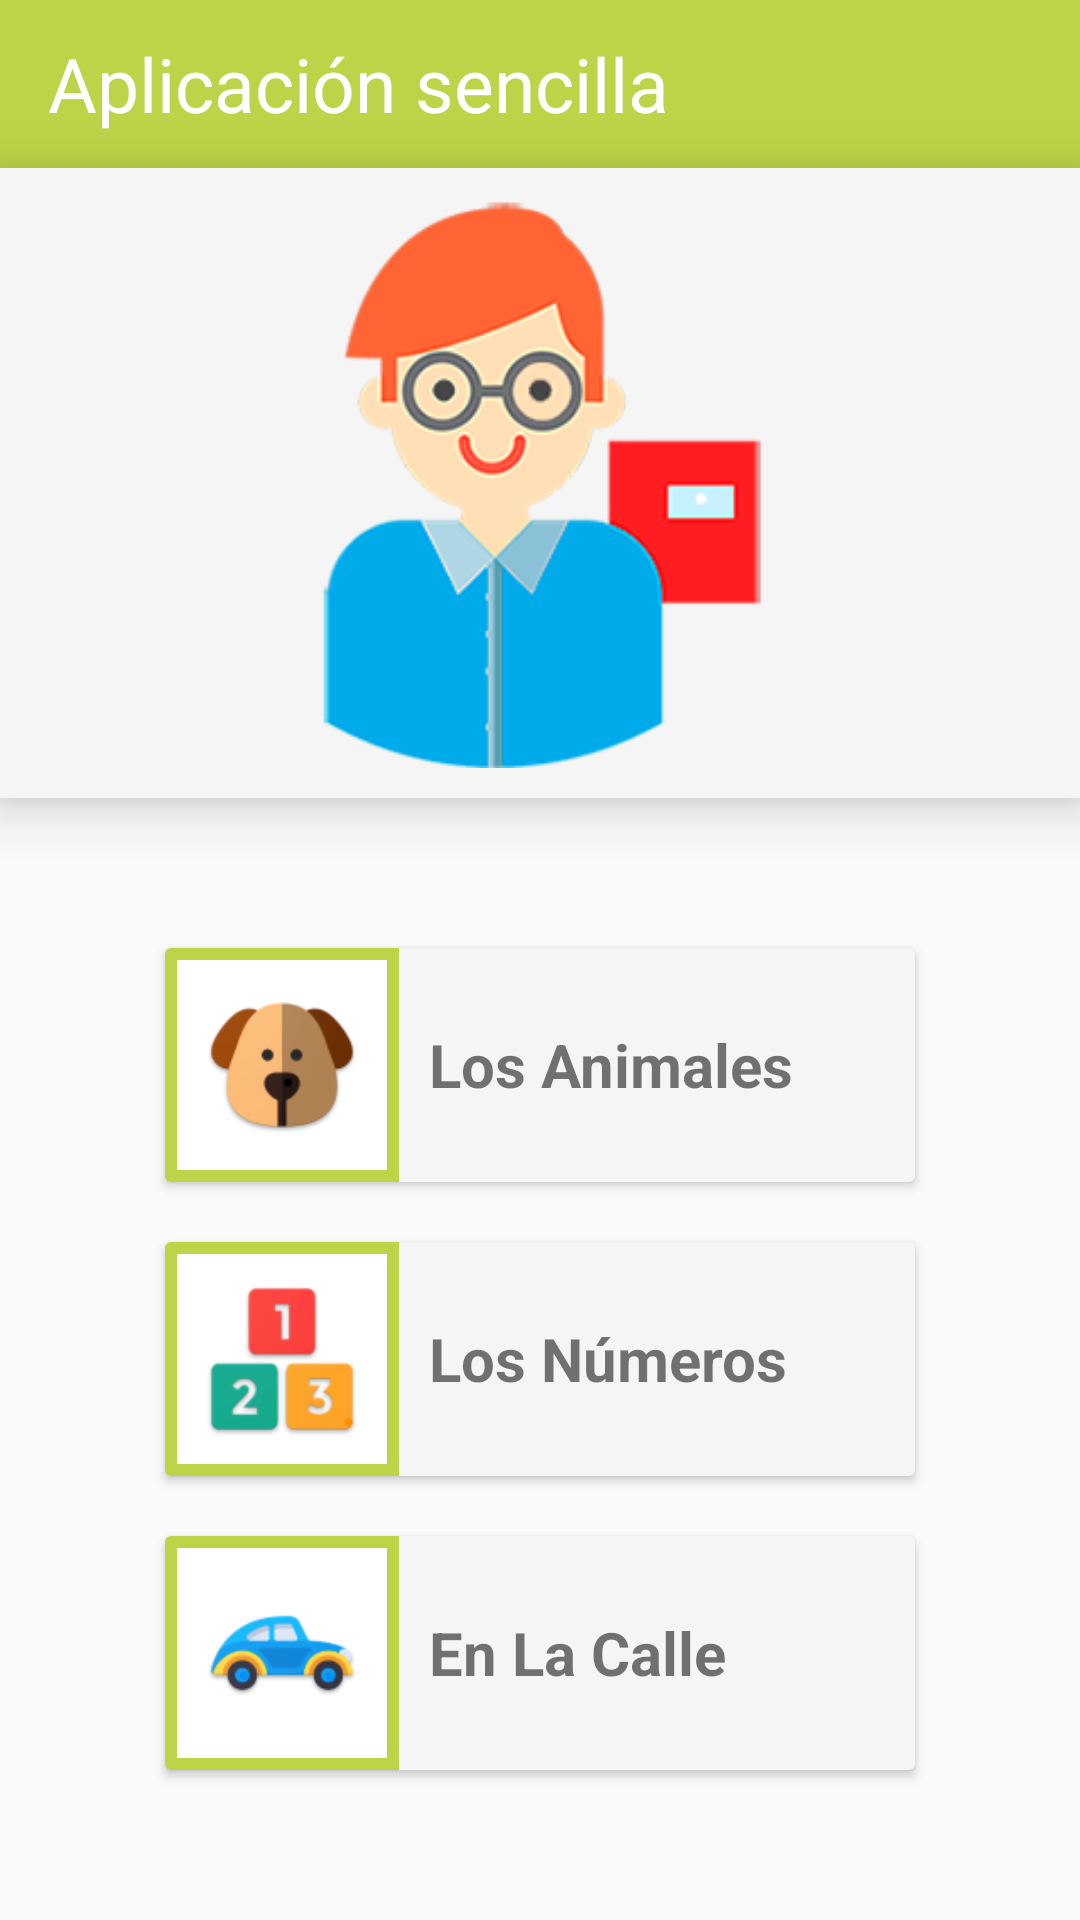

Icon click points for this 1080 x 1920 phone screenshot, format (x=x, y=y):
numeros: (x=282, y=1359)
